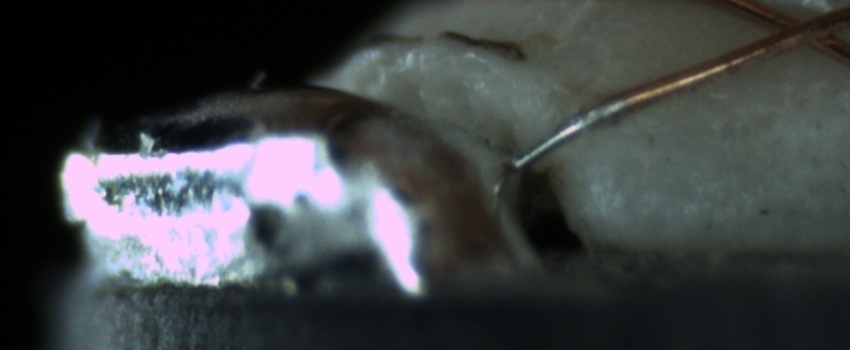CL: (750, 0, 846, 59)
TS: (503, 102, 628, 170)
TTCW: (506, 73, 674, 171)
